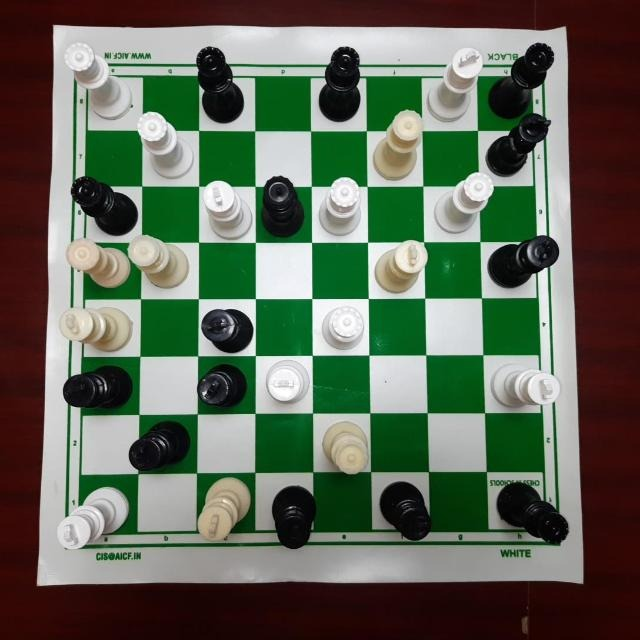black-king: (486, 227, 562, 295), (482, 110, 558, 178), (374, 482, 436, 554), (58, 364, 134, 422), (266, 480, 317, 553), (128, 422, 193, 475), (197, 306, 258, 358), (196, 366, 258, 415)
black-queen: (495, 479, 573, 545), (192, 41, 250, 129), (489, 38, 555, 115), (69, 173, 143, 239), (313, 43, 367, 128), (256, 173, 310, 241)
white-king: (425, 41, 489, 127), (54, 298, 142, 359), (58, 483, 129, 555), (193, 472, 255, 547), (192, 174, 256, 245), (490, 364, 566, 422), (257, 352, 310, 416), (374, 236, 430, 296)
white-queen: (60, 44, 131, 114), (372, 105, 427, 187), (135, 109, 193, 177), (433, 177, 497, 231), (314, 415, 366, 476), (64, 239, 126, 289), (129, 234, 189, 284), (319, 302, 367, 355), (321, 175, 360, 233)
